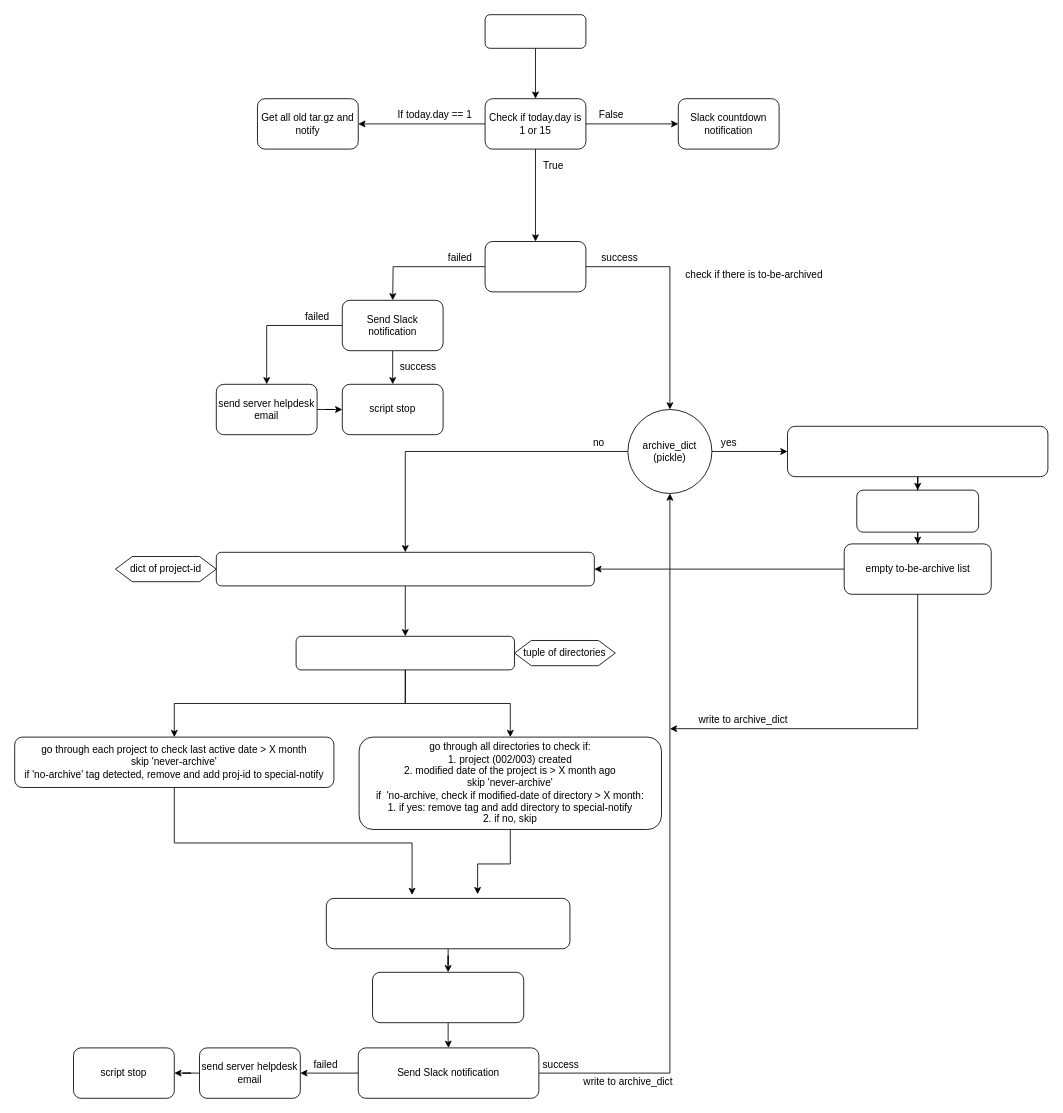
Image size: 1063x1113. Some labels were removed from this diagram. The centre of each missing label's shape, as x and y in pixels:
"check dx_login" goes at (535,266).
"Compile all qualified to-be-archived" goes at (448,923).
"Find project (002 and 003) which are inactive for X months" goes at (404,568).
"generate archived.txt" goes at (917,510).
"Get all directories in staging52" goes at (404,652).
"Get tag status" goes at (448,997).
"Script executed" goes at (535,31).
"start archiving projects and directories" goes at (917,451).
